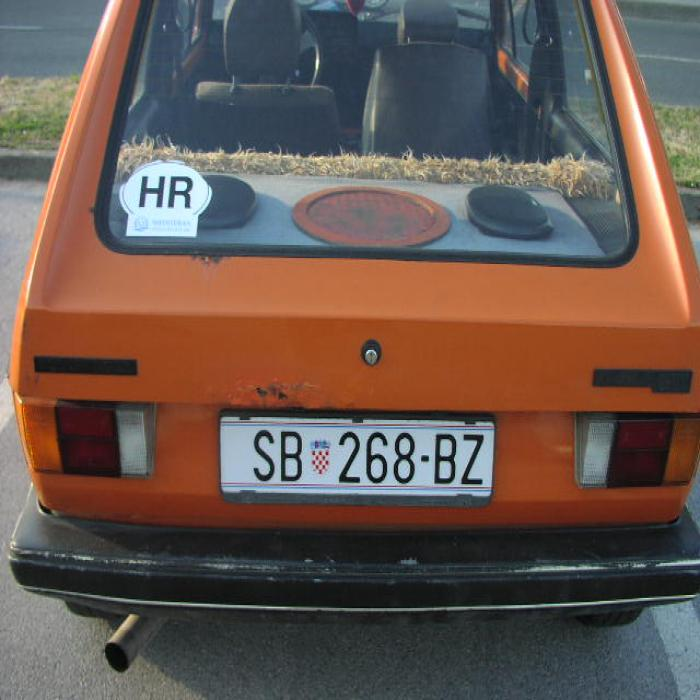number_plate: (220, 418, 491, 493)
